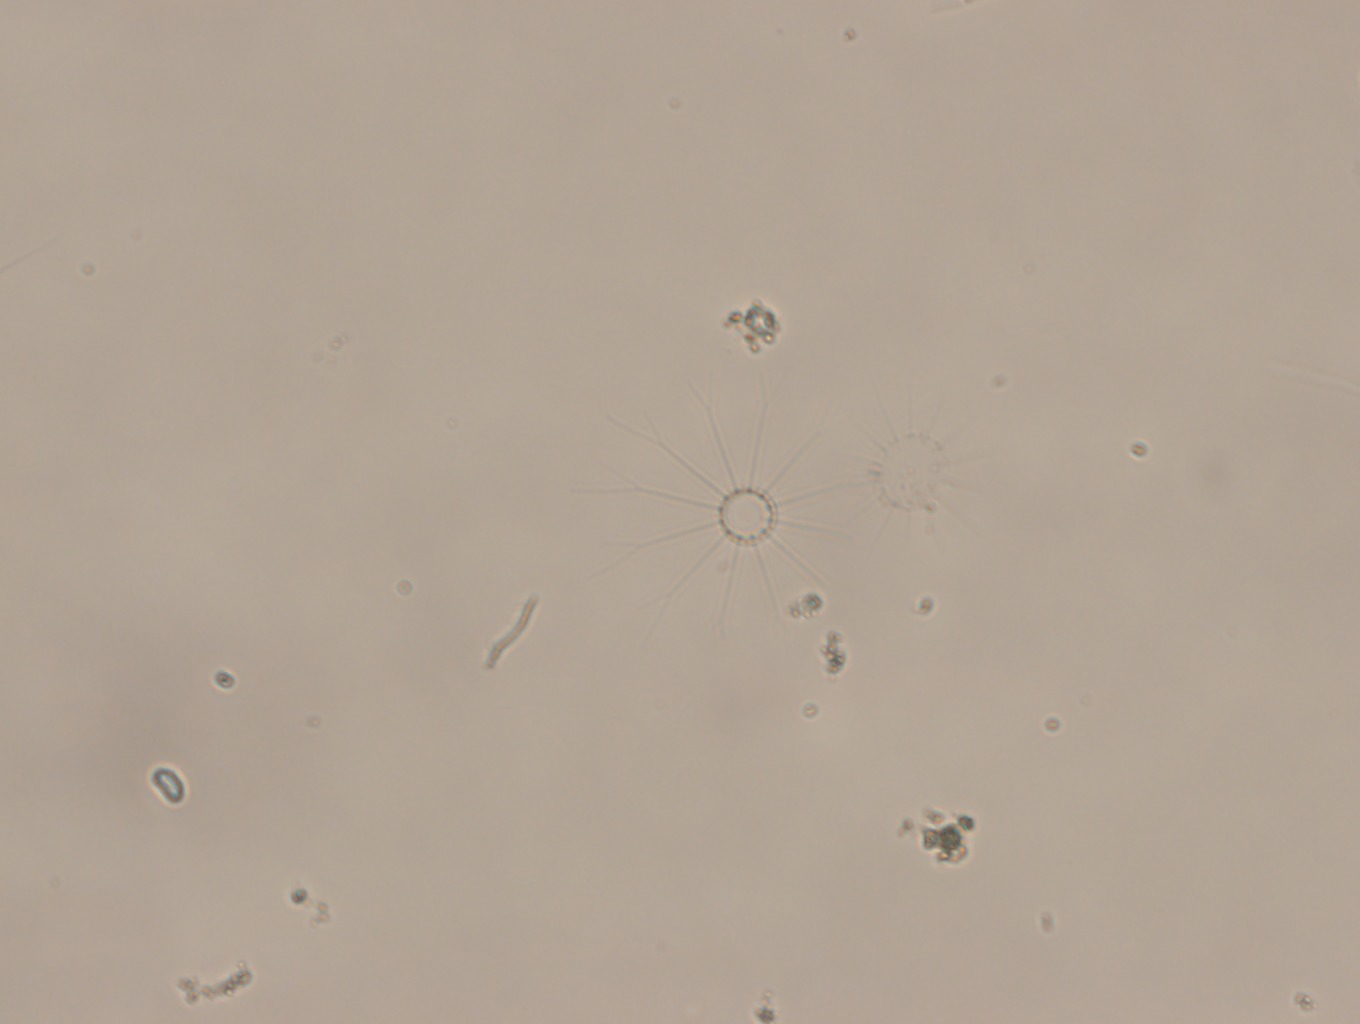bacteriastrum: (622, 393, 856, 631), (822, 397, 1006, 569)
